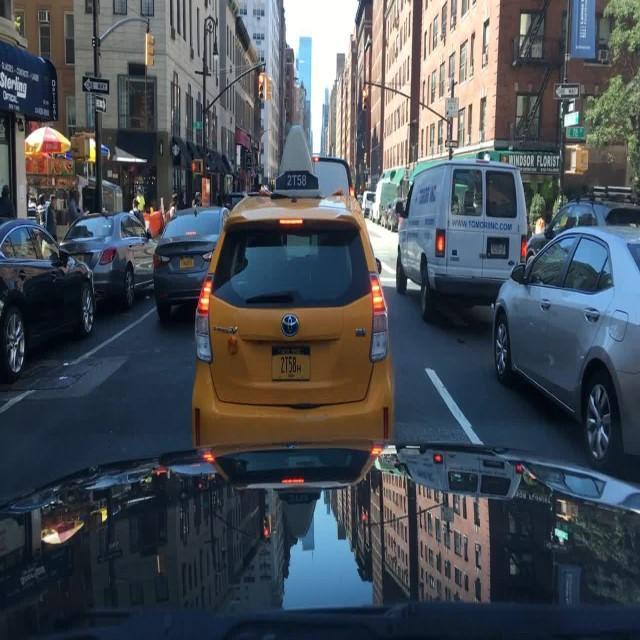normal: (192, 117, 405, 490), (483, 165, 639, 487), (0, 182, 156, 399), (383, 155, 546, 337)
